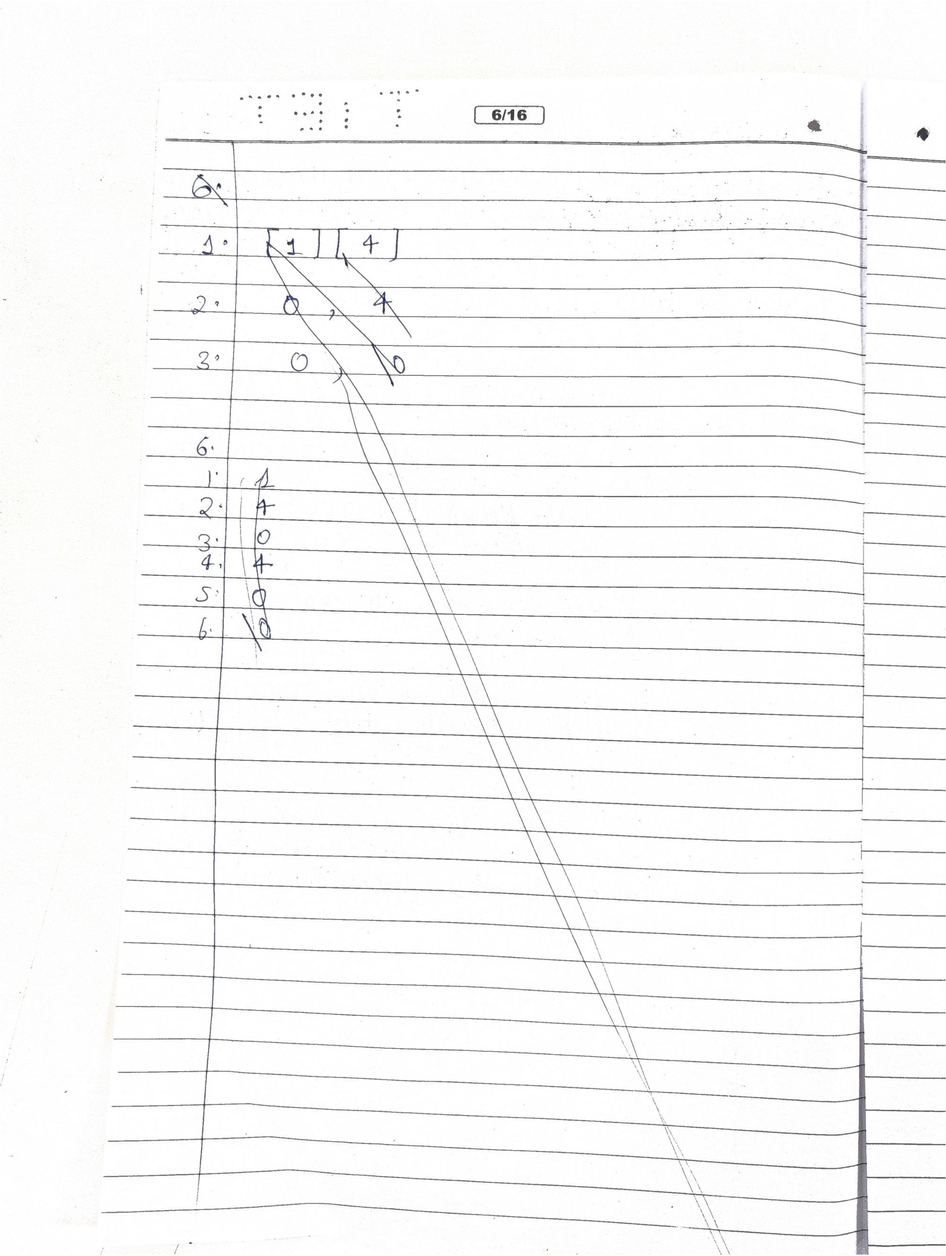cuttings: (265, 227, 412, 388), (238, 466, 277, 668), (191, 173, 229, 208)
